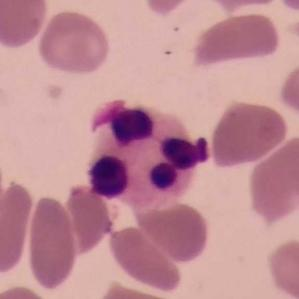Neutrophil: (76, 96, 208, 206)
RBC: (190, 8, 284, 74), (208, 97, 290, 169), (106, 222, 186, 294), (24, 192, 79, 294), (36, 7, 113, 76), (245, 132, 299, 226), (140, 199, 212, 265), (63, 180, 118, 257), (0, 179, 36, 277), (0, 0, 50, 50), (263, 236, 299, 299), (92, 280, 186, 299), (276, 56, 299, 128), (200, 0, 290, 13), (140, 0, 202, 18), (0, 282, 57, 298), (0, 147, 7, 230), (273, 0, 299, 18)
